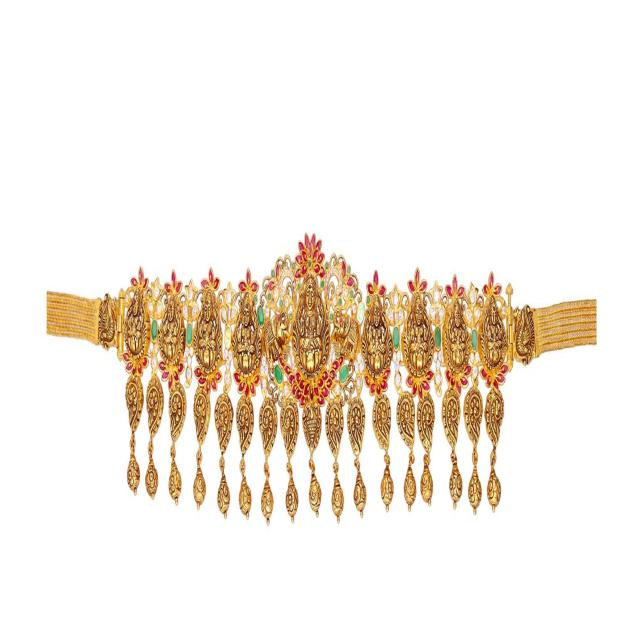missing gem: (357, 303, 365, 324), (225, 326, 231, 348)
